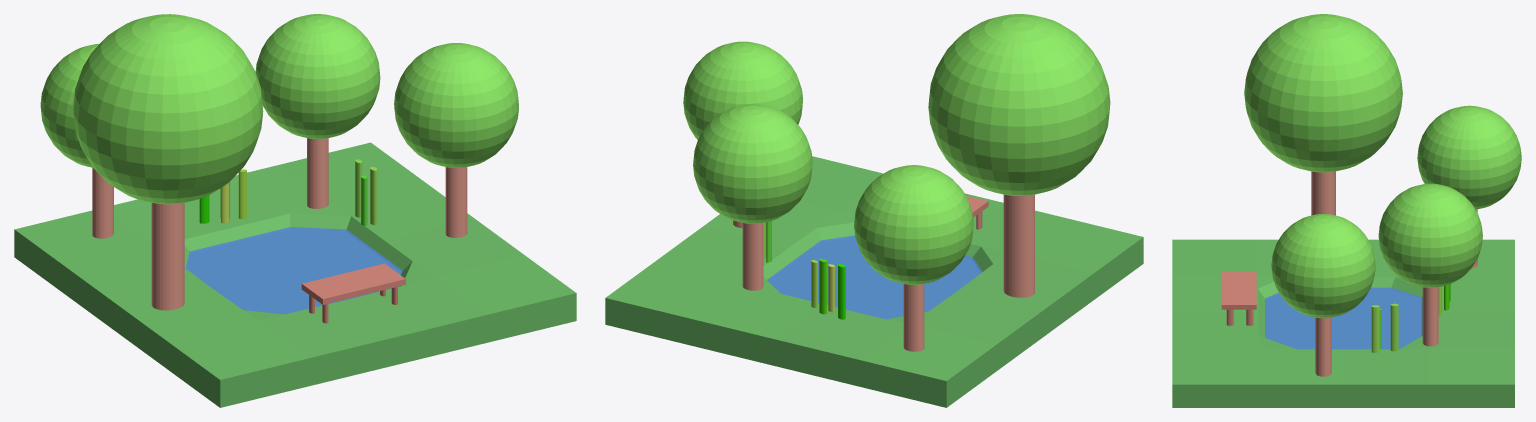
The model's file is lake.fbx.
3 views of the same model, side by side, from view 1: azimuth 30°, elevation 25°; view 2: azimuth 150°, elevation 25°; view 3: azimuth 270°, elevation 25° (orthographic). The views are drawn at different scales.
Parts seen in each view (by area): view 1: Ground.003, Sphere.008, Sphere.007, Sphere.006, Plane, Cylinder.011, Sphere.009, Cube.026, Cylinder.010, Cylinder.009, Cylinder.020; view 2: Ground.003, Sphere.008, Sphere.006, Sphere.009, Sphere.007, Plane, Cylinder.011, Cylinder.009, Cylinder.020; view 3: Ground.003, Sphere.008, Sphere.007, Sphere.006, Sphere.009, Plane, Cube.026, Cylinder.011, Cylinder.009, Cylinder.010, Cylinder.006, Cylinder.007.
Part boxes in pixels (<box>): Ground.003: <box>14,142,576,407</box>; Sphere.008: <box>73,14,263,204</box>; Sphere.007: <box>394,43,518,167</box>; Sphere.006: <box>255,14,380,138</box>; Plane: <box>185,227,402,314</box>; Cylinder.011: <box>151,202,184,310</box>; Sphere.009: <box>40,43,99,167</box>; Cube.026: <box>301,263,405,304</box>; Cylinder.010: <box>445,167,467,237</box>; Cylinder.009: <box>307,138,328,208</box>; Cylinder.020: <box>92,168,113,238</box>; Ground.003: <box>605,156,1143,407</box>; Sphere.008: <box>928,14,1110,195</box>; Sphere.006: <box>693,104,812,223</box>; Sphere.009: <box>854,165,973,284</box>; Sphere.007: <box>683,41,802,139</box>; Plane: <box>767,235,982,319</box>; Cylinder.011: <box>1003,194,1034,297</box>; Cylinder.009: <box>742,223,763,290</box>; Cylinder.020: <box>903,284,924,351</box>; Ground.003: <box>1172,239,1514,407</box>; Sphere.008: <box>1244,14,1402,172</box>; Sphere.007: <box>1271,214,1375,318</box>; Sphere.006: <box>1378,183,1482,287</box>; Sphere.009: <box>1417,105,1521,209</box>; Plane: <box>1265,287,1422,349</box>; Cube.026: <box>1221,271,1256,309</box>; Cylinder.011: <box>1311,171,1335,215</box>; Cylinder.009: <box>1422,287,1438,346</box>; Cylinder.010: <box>1315,317,1331,376</box>; Cylinder.006: <box>1390,303,1398,351</box>; Cylinder.007: <box>1371,305,1379,352</box>.
Size of the model in its own units: 954 by 663 by 816.
